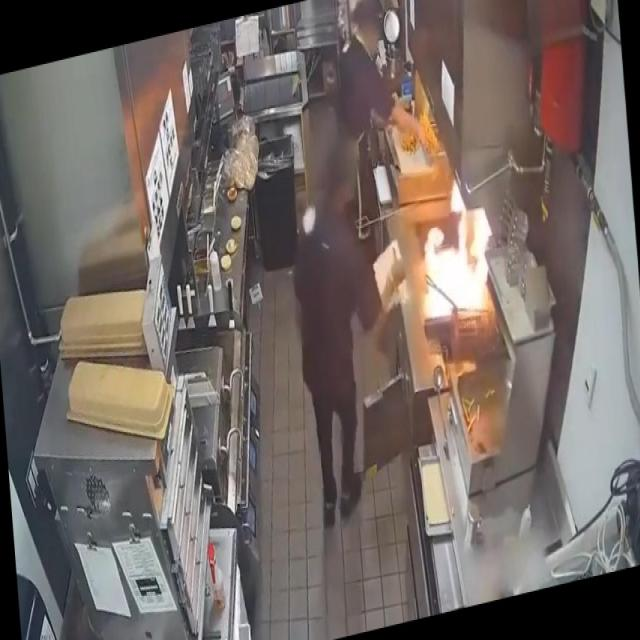fire: (414, 201, 487, 327)
